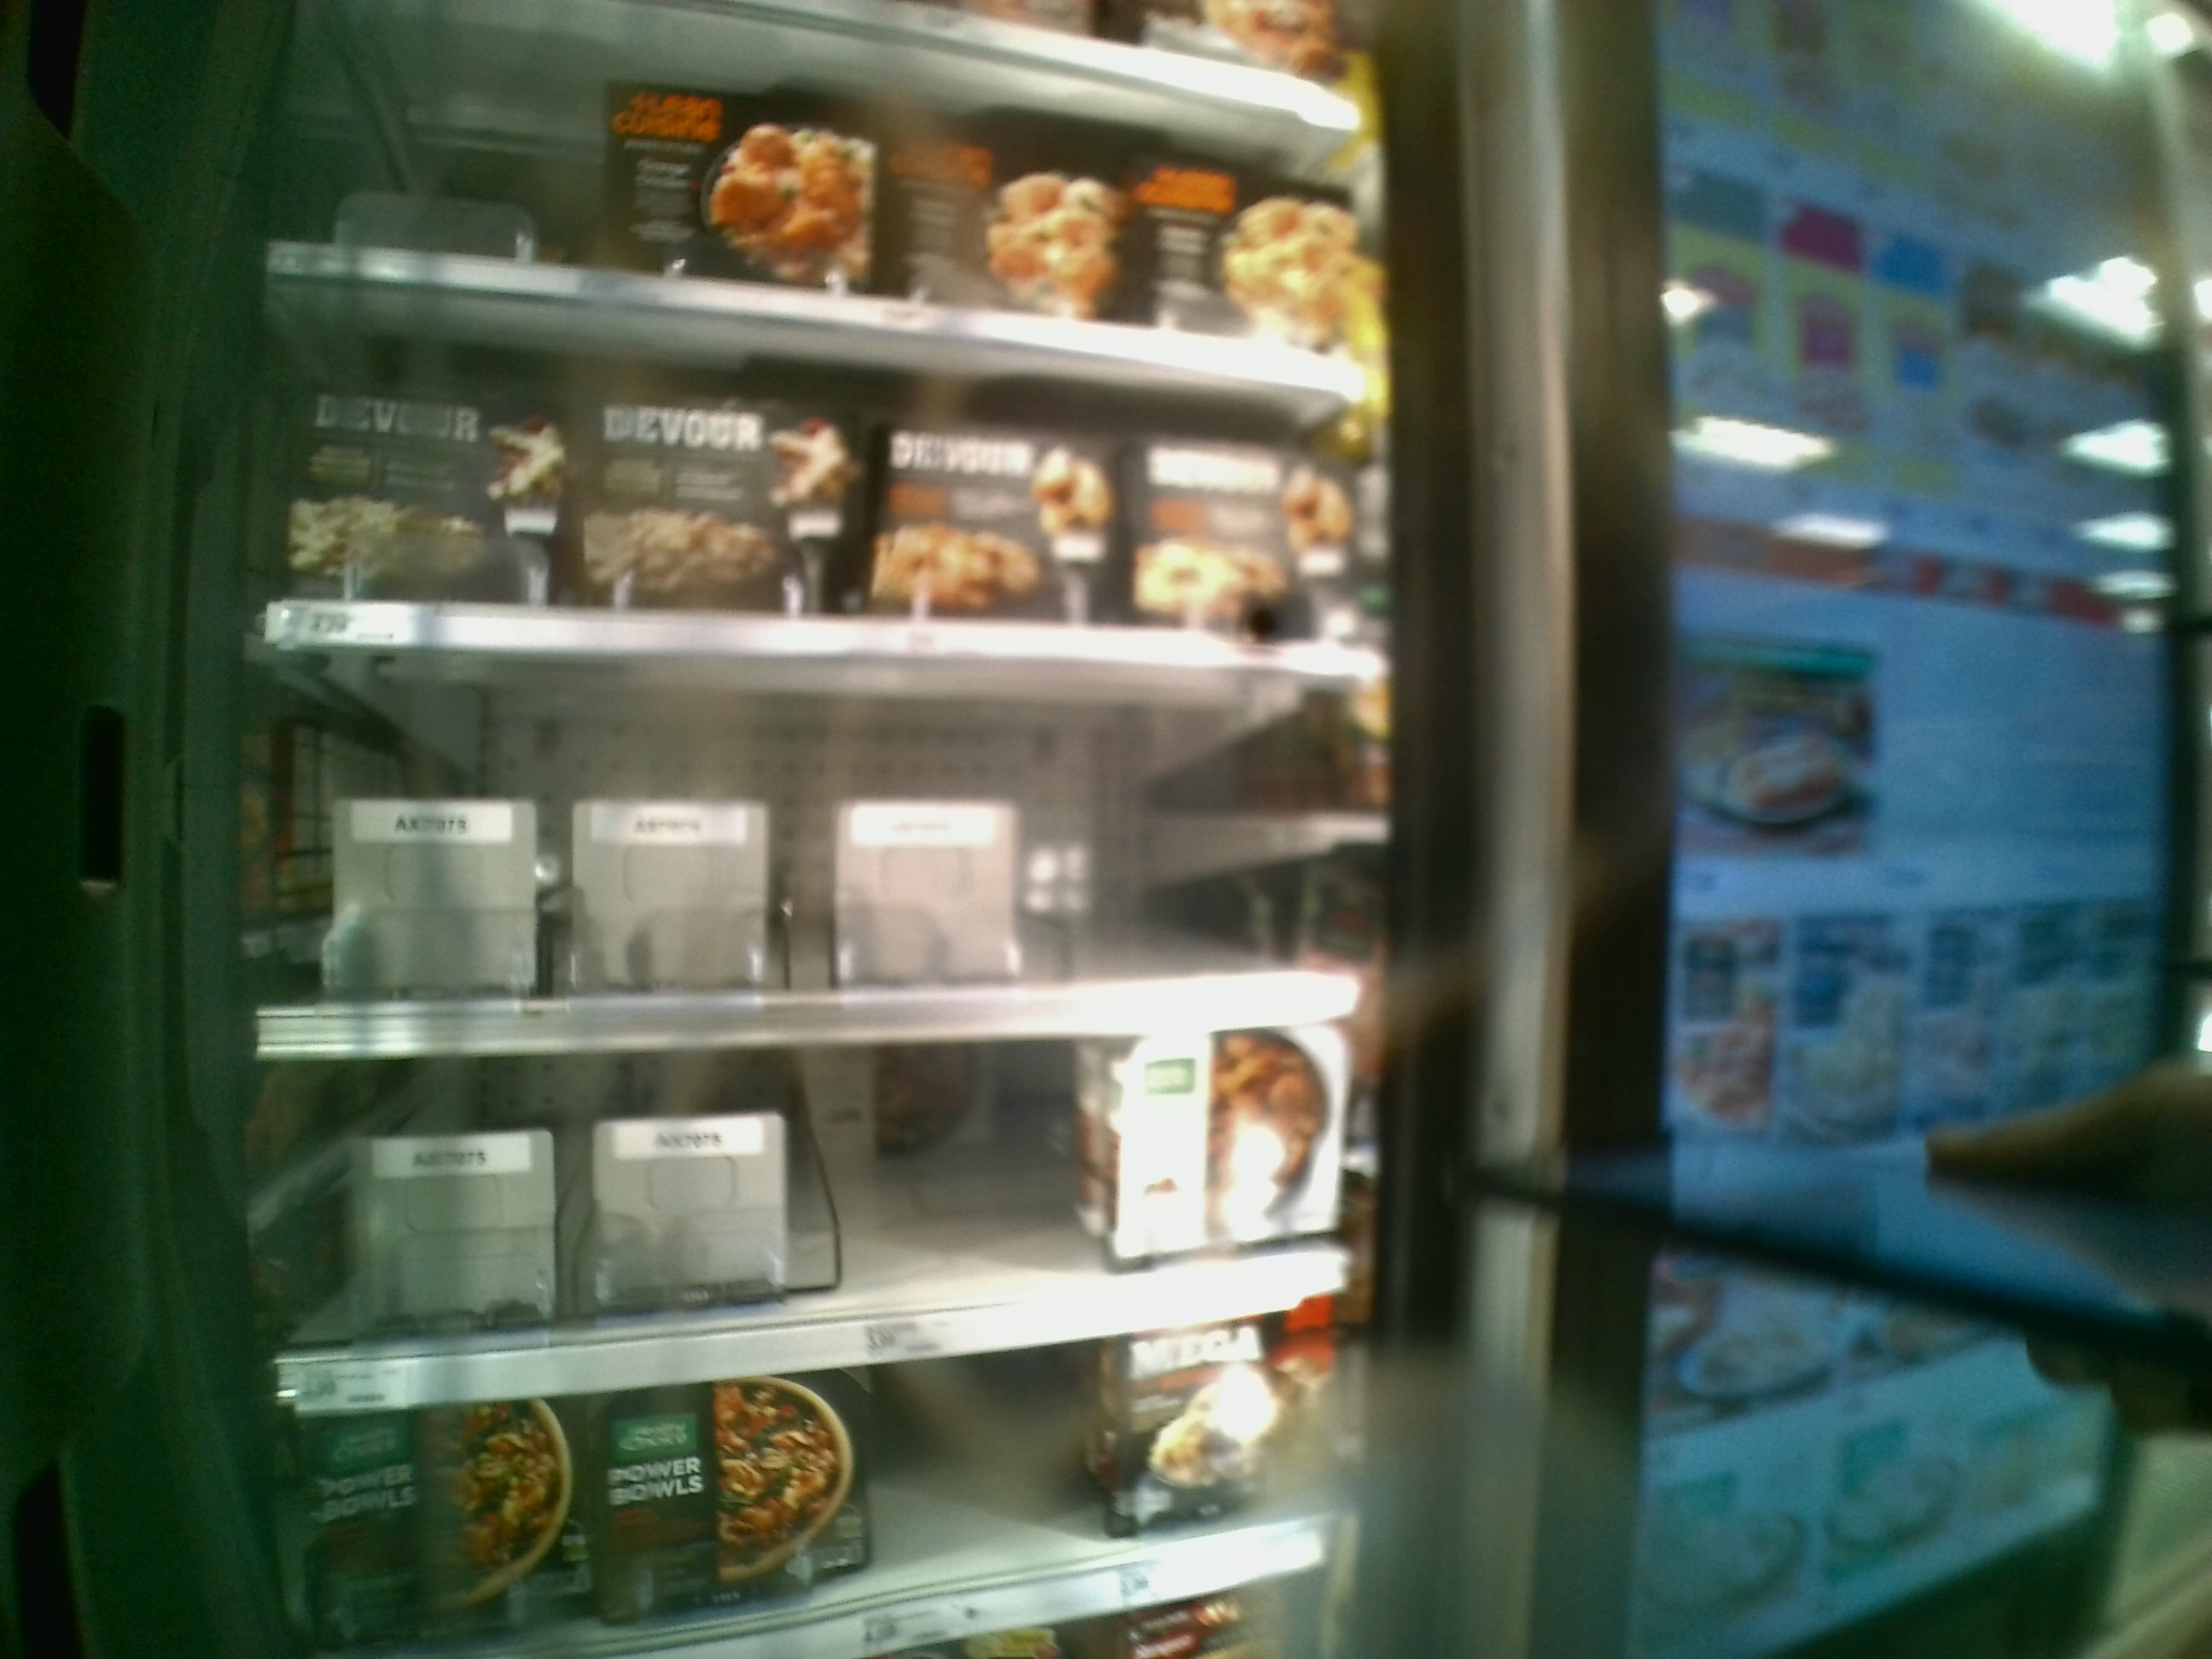shelf: (256, 647, 1383, 1058), (254, 260, 1372, 671), (249, 1014, 1353, 1412)
